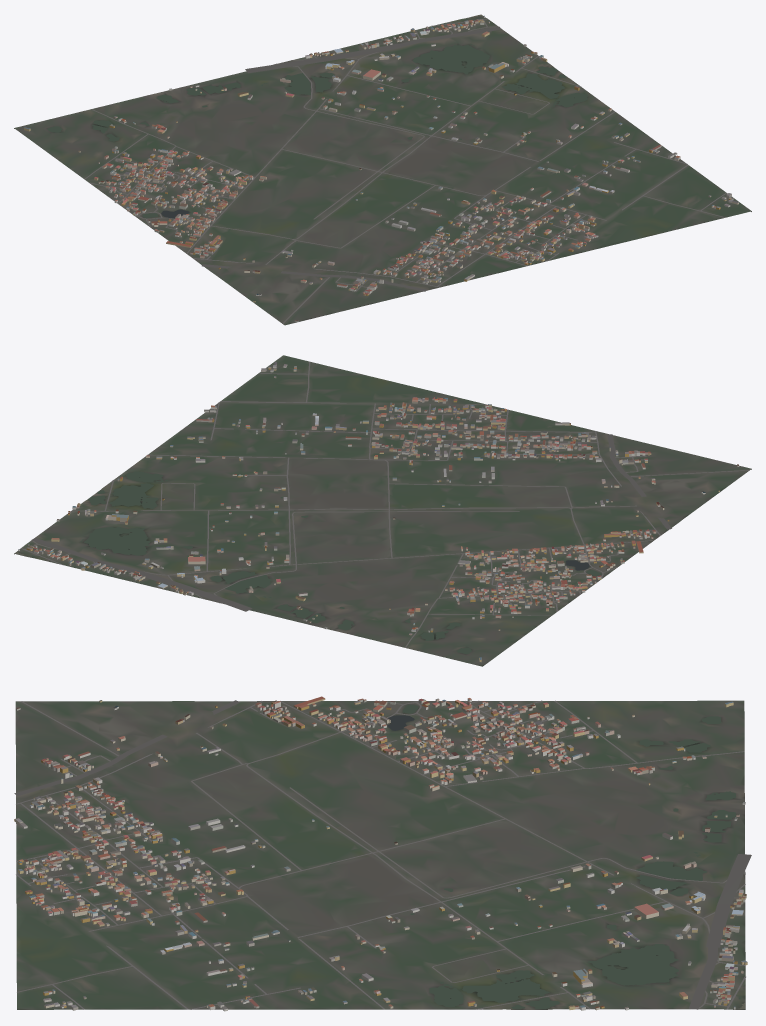
The picture shows the model from 3 angles, top to bottom: view 1: azimuth 30°, elevation 25°; view 2: azimuth 150°, elevation 25°; view 3: azimuth 270°, elevation 25°; orthographic projection. The views are drawn at different scales.
Visible parts, largest first — view 1: ground, buildings, roads, water; view 2: ground, buildings, roads, water; view 3: ground, buildings, roads, water.
Part boxes in pixels (<box>): ground: <box>14,14,751,325</box>; buildings: <box>24,15,738,322</box>; roads: <box>84,19,726,323</box>; water: <box>47,14,588,218</box>; ground: <box>14,355,751,666</box>; buildings: <box>18,362,739,662</box>; roads: <box>21,361,749,647</box>; water: <box>15,471,600,654</box>; ground: <box>15,700,745,1009</box>; buildings: <box>14,696,747,1011</box>; roads: <box>14,700,751,1009</box>; water: <box>387,704,745,1009</box>.
Bounding box in the file's own units: 1425 × 16.55 × 1419.
